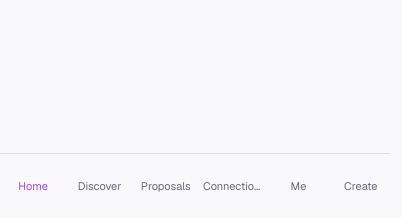
Test case: MobileNavigation › opens the create menu and points to canonical create routes
Click the button "Create" at (361, 186), box [332, 154, 390, 217]
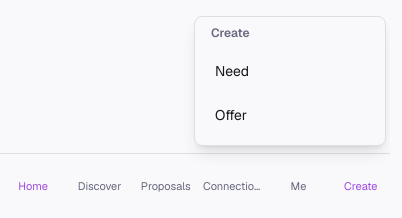
Result: the button "Create" is expanded at [332, 154, 390, 217]
